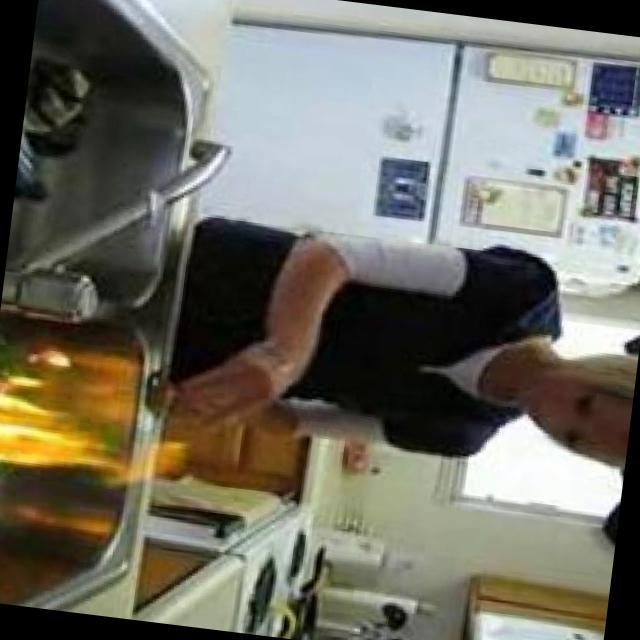Fire: (1, 382, 158, 494)
